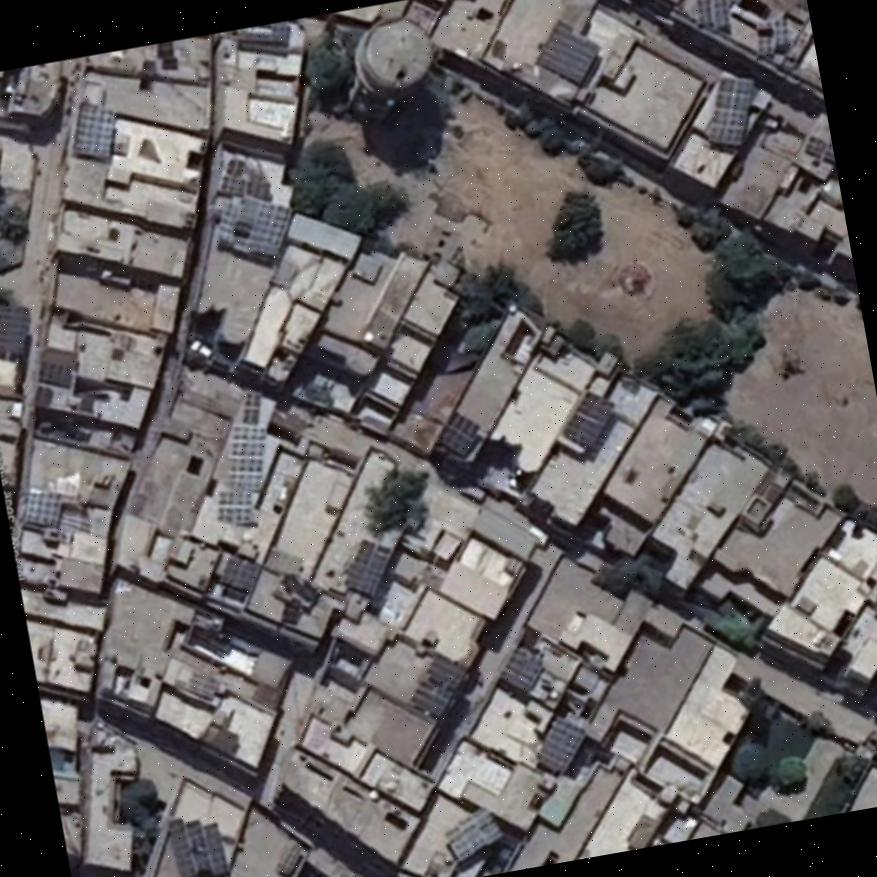Solarpanel: (218, 193, 291, 255), (538, 21, 597, 82), (409, 655, 466, 717), (166, 819, 224, 877), (445, 805, 502, 860), (563, 393, 615, 446), (535, 717, 585, 770), (346, 539, 391, 597), (711, 79, 750, 143), (227, 425, 264, 489), (71, 101, 112, 157), (501, 646, 543, 691), (442, 409, 481, 457), (223, 555, 260, 588), (0, 310, 24, 355), (216, 490, 251, 520), (24, 495, 61, 522), (697, 0, 728, 25), (244, 393, 256, 422)
